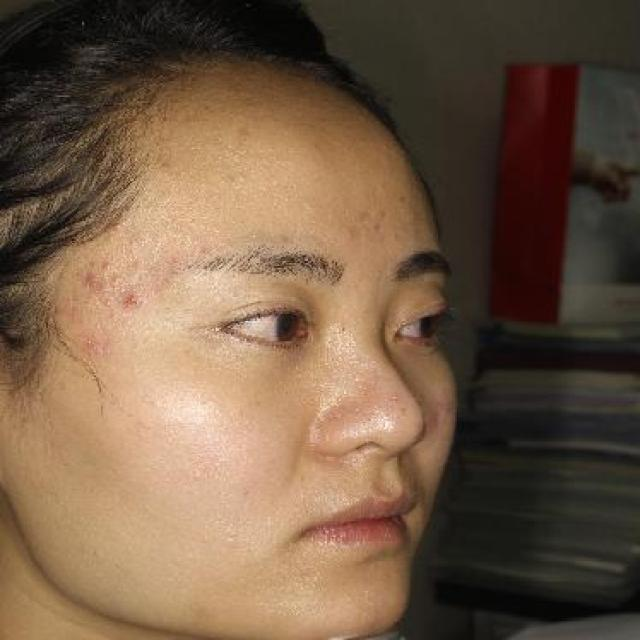nodules: (115, 283, 151, 312), (92, 253, 120, 273)
